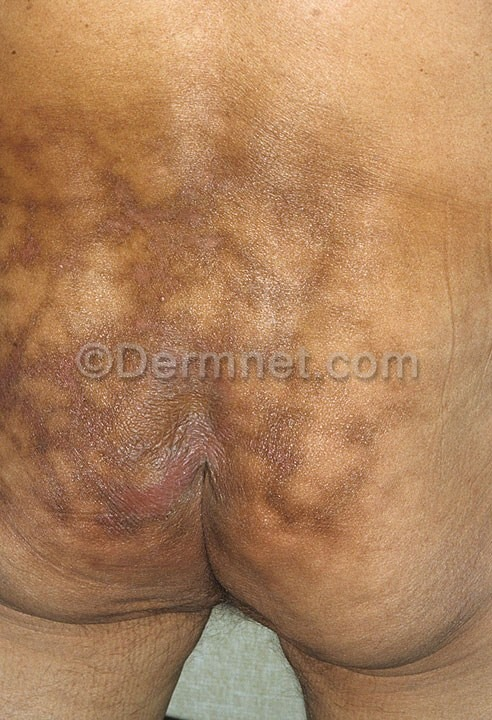Melasma: (1, 106, 481, 334), (18, 383, 380, 567)
